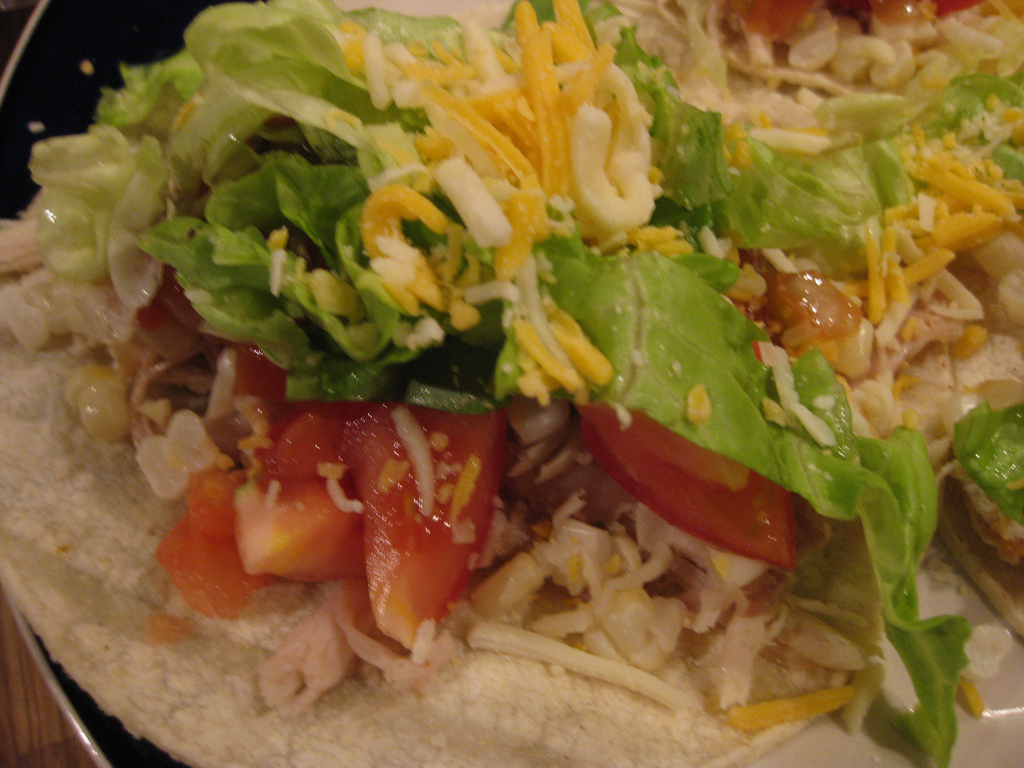chopped lettuce: (54, 34, 766, 366)
